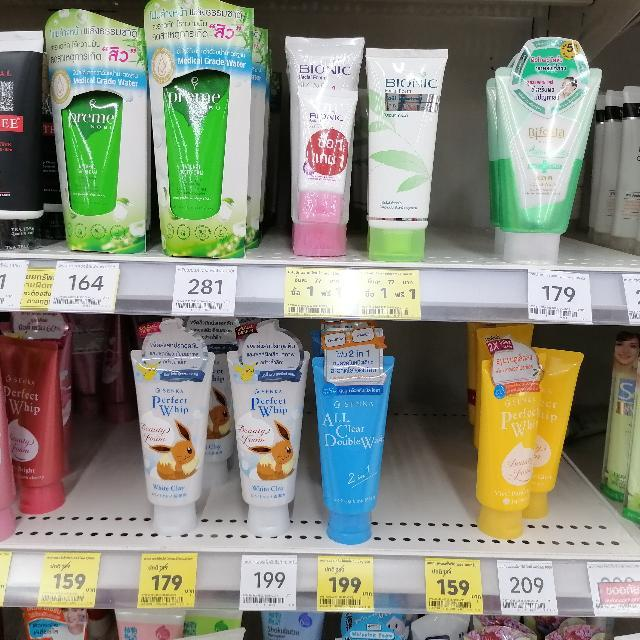Squeeze Tube: (19, 0, 148, 260), (483, 29, 605, 272), (143, 0, 254, 262), (456, 319, 584, 541), (272, 18, 367, 269), (119, 328, 223, 531), (310, 323, 404, 545), (222, 327, 314, 544), (366, 34, 444, 266), (1, 321, 92, 519), (611, 354, 640, 527)
